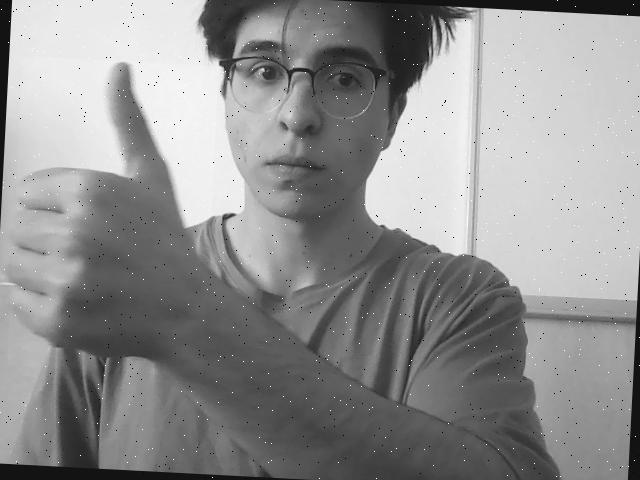good: (7, 57, 219, 376)
